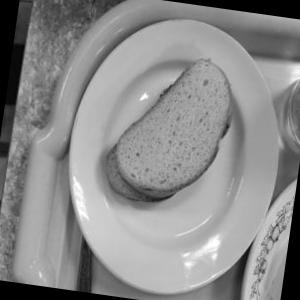bread: (94, 20, 256, 232)
